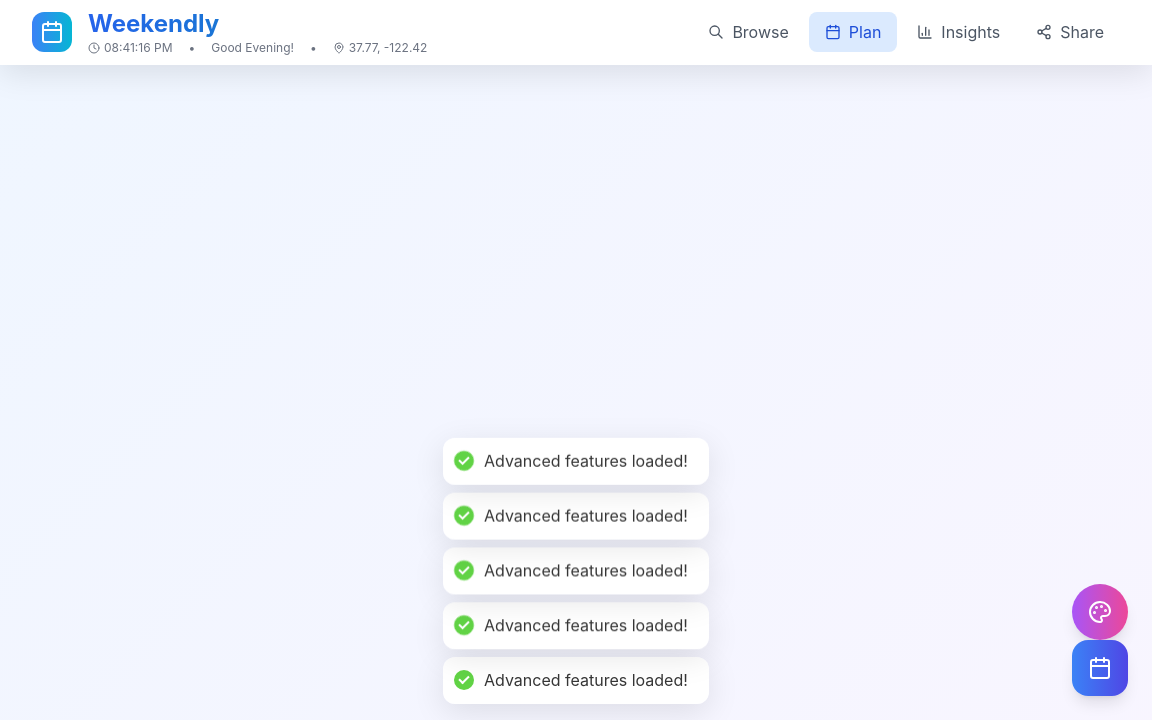
Weekendly - Core Weekend Planner Tests › can remove activities from weekend schedule
The width and height of the screenshot is (1152, 720).
Expected: the heading "Weekendly" is shown, [88, 8, 427, 40]
Click the button "Plan".
click(853, 32)  # box [809, 12, 897, 52]
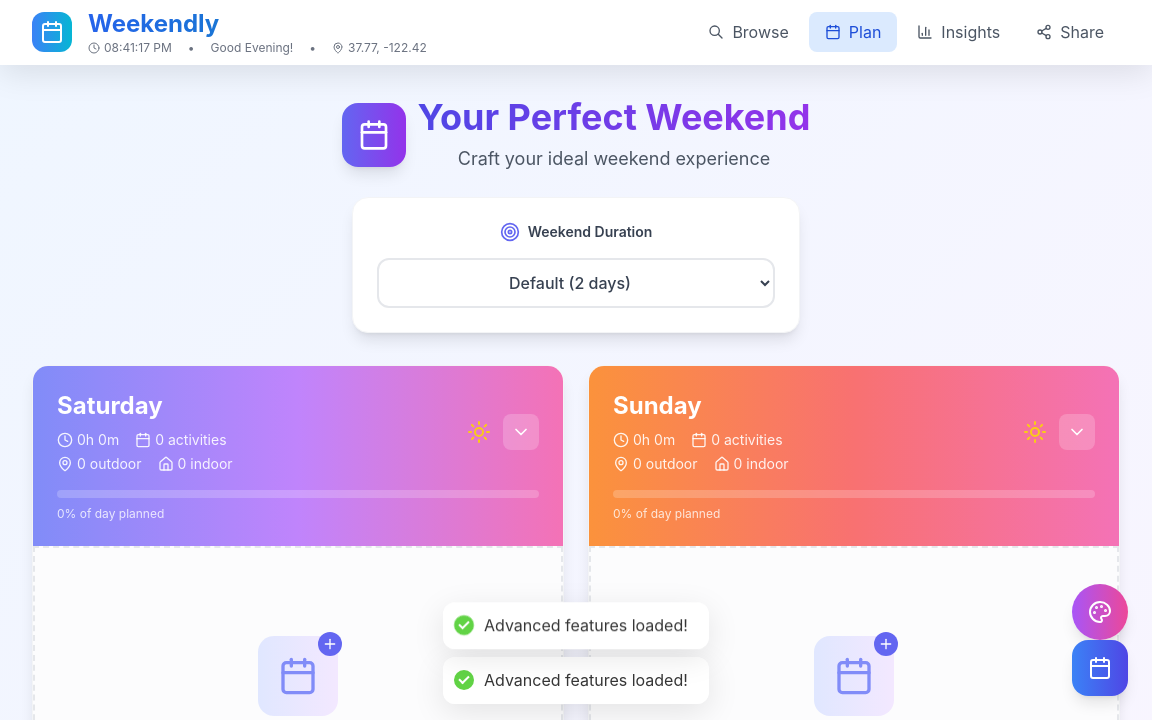
Expected: the heading "Your Perfect Weekend" is shown, [418, 97, 810, 137]
Expected: the text "Your Perfect Weekend" is shown, [418, 95, 810, 139]
